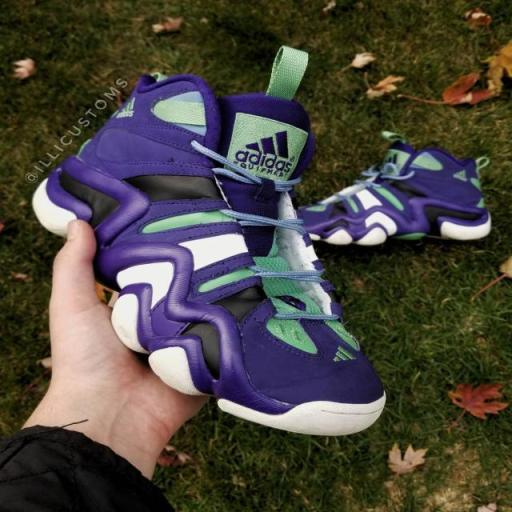Adidas: (232, 128, 298, 176)
